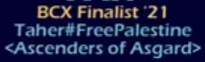#: (64, 22, 75, 36)
1: (159, 5, 167, 18)
2: (147, 5, 157, 18)
<: (4, 42, 14, 54)
>: (191, 42, 201, 53)
A: (129, 40, 142, 54), (14, 41, 26, 54)
B: (36, 4, 48, 18)
C: (48, 4, 60, 18)
F: (76, 5, 86, 18), (75, 23, 85, 36)
P: (114, 23, 124, 36)
T: (13, 22, 25, 36)
X: (60, 4, 71, 19)
a: (162, 43, 173, 55), (103, 7, 113, 18), (24, 25, 34, 36), (124, 25, 133, 36)
c: (34, 43, 43, 54)
d: (66, 40, 77, 55), (180, 40, 191, 55)
e: (46, 25, 57, 37), (43, 43, 54, 54), (139, 25, 149, 37), (181, 25, 191, 37), (77, 43, 87, 55), (93, 26, 103, 36), (103, 26, 113, 36)
f: (118, 40, 126, 54)
g: (151, 44, 162, 59)
h: (35, 23, 45, 37)
i: (164, 22, 170, 37), (86, 4, 91, 18), (118, 4, 123, 18)
l: (113, 4, 118, 18), (134, 22, 139, 36)
n: (169, 25, 181, 37), (54, 43, 66, 55), (92, 7, 103, 18)
o: (107, 43, 118, 54)
r: (87, 43, 94, 55), (85, 26, 93, 36), (57, 26, 64, 37), (173, 43, 180, 54)
s: (94, 43, 103, 55), (123, 7, 132, 18), (142, 43, 151, 54), (149, 25, 157, 37), (26, 43, 34, 54)
t: (157, 23, 164, 37), (131, 6, 138, 18)
